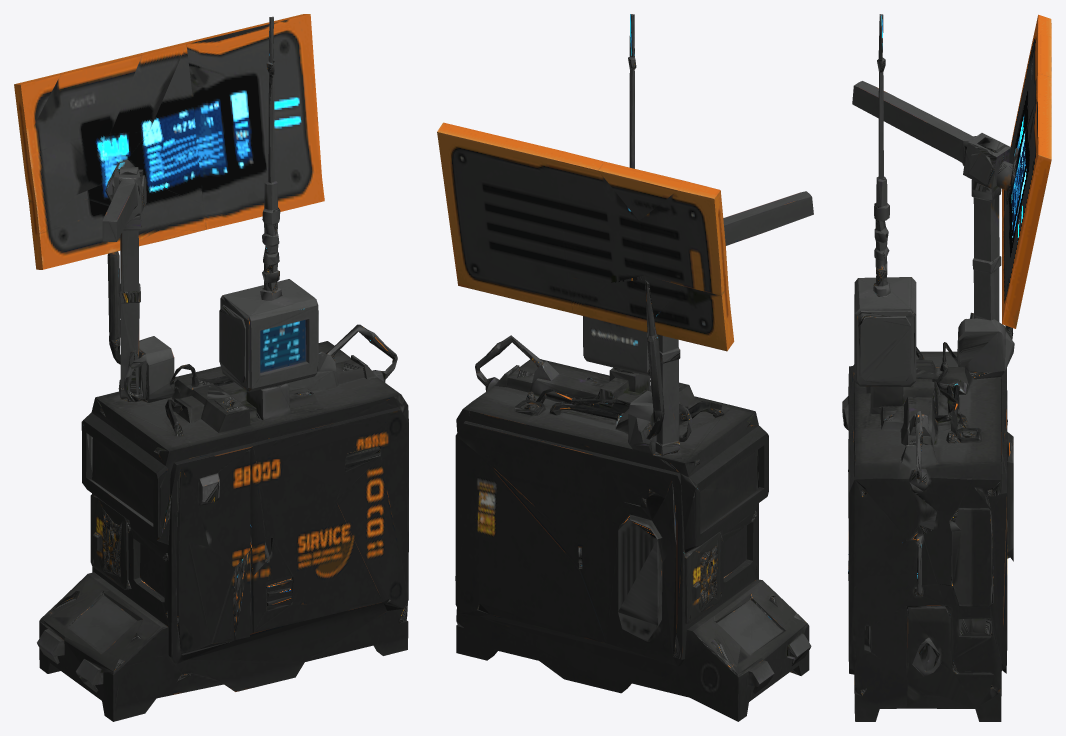
The model's file is obj_relay_v1.glb.
3 views of the same model, side by side, from view 1: azimuth 30°, elevation 25°; view 2: azimuth 150°, elevation 25°; view 3: azimuth 270°, elevation 25° (orthographic). The views are drawn at different scales.
Size of the model in its own units: 0.9499 by 1.8 by 0.5277.
Materials: 1 (1 with a texture image).
